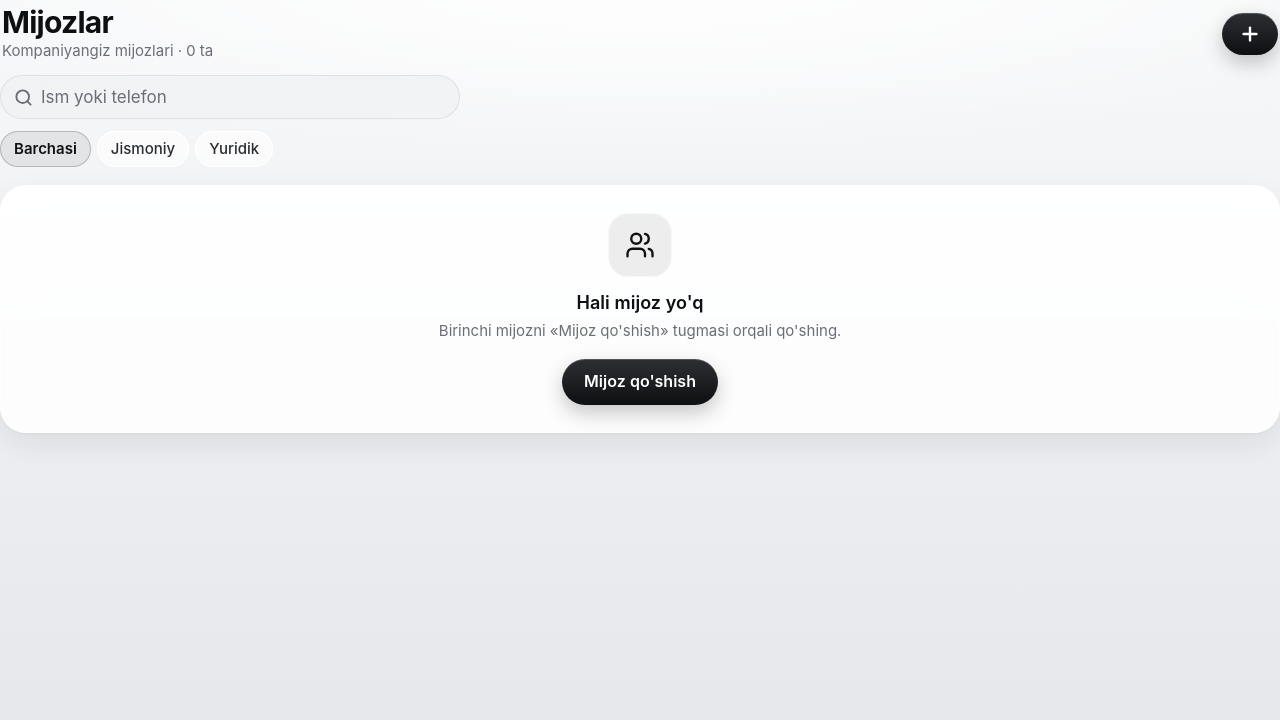
a company with no customers says so, and offers to add the first
Check: the text "Hali mijoz yo'q" is shown, box [576,292,704,313]
Check: the text "Birinchi mijozni «Mijoz qo'shish» tugmasi orqali qo'shing." is shown, box [439,321,841,340]
What coordinates should you click on to do the following:
click the button "Mijoz qo'shish"
I would click on:
 (640, 382)
Its box is [562,359,718,405].
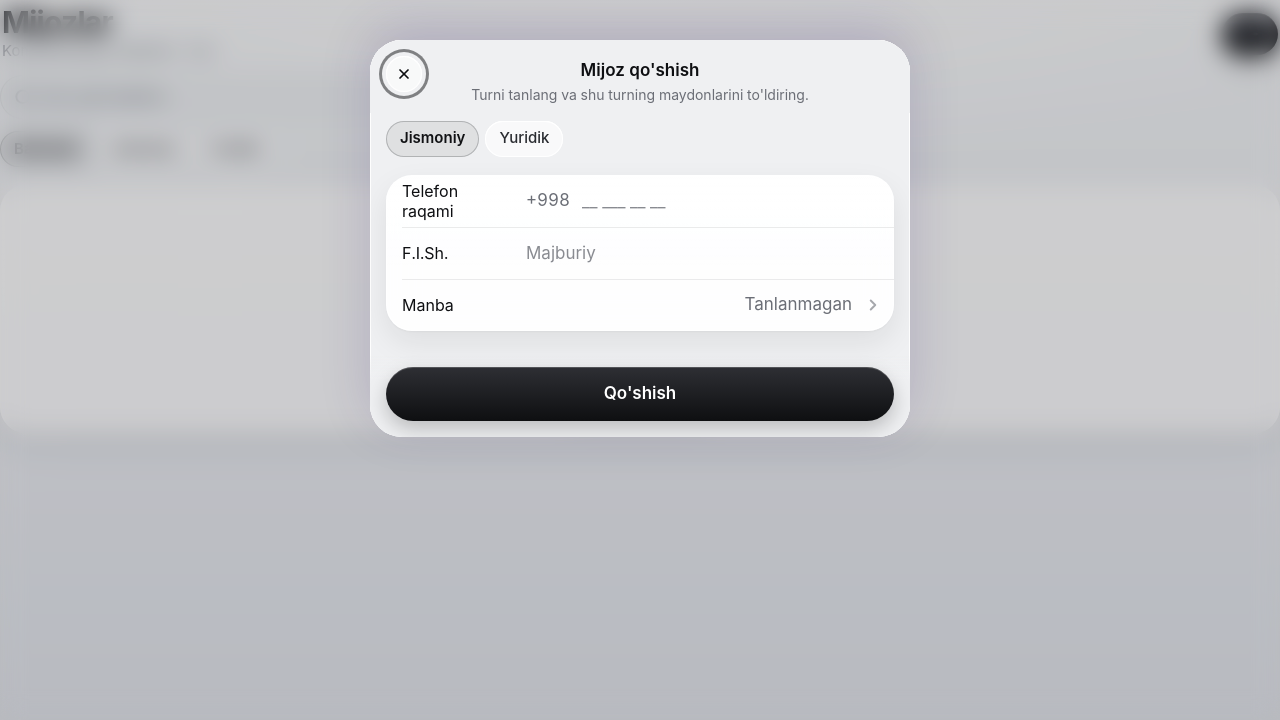
Check: the dialog "Mijoz qo'shish" is shown, box [370,40,910,436]
